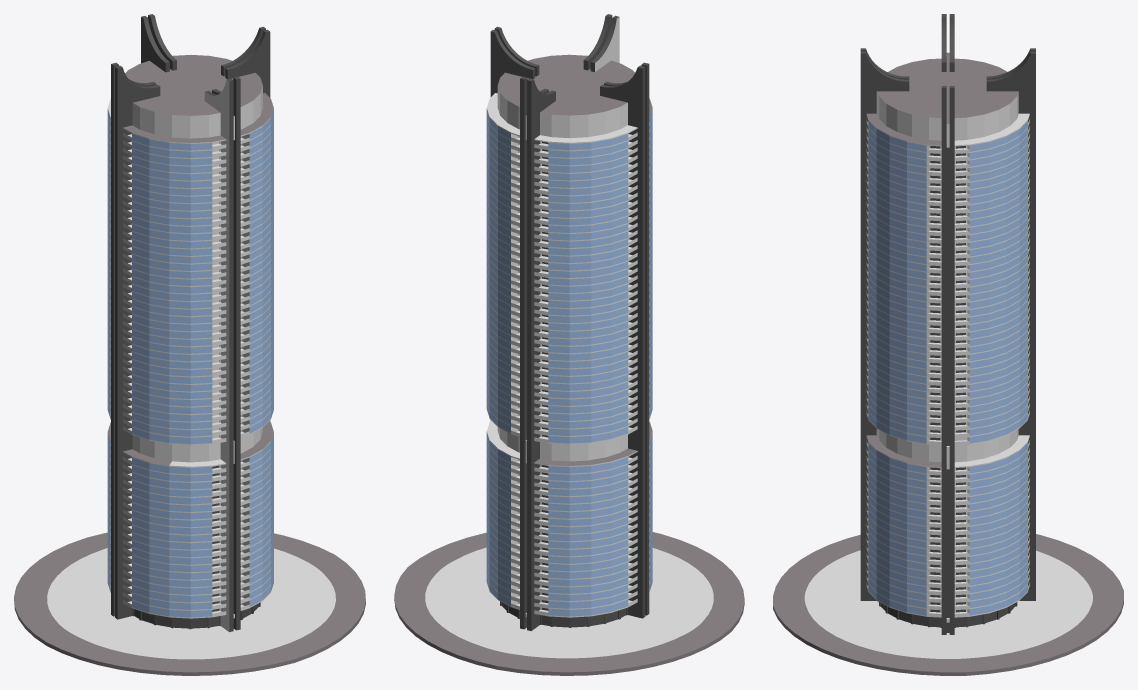
The model's file is Skyscraper6.fbx.
The picture shows the model from 3 angles, left to right: view 1: azimuth 30°, elevation 25°; view 2: azimuth 150°, elevation 25°; view 3: azimuth 270°, elevation 25°; orthographic projection.
Parts seen in each view (by area): view 1: Mesh1109 Model; view 2: Mesh1109 Model; view 3: Mesh1109 Model.
Part boxes in pixels (<box>): Mesh1109 Model: <box>14,14,365,675</box>; Mesh1109 Model: <box>394,14,744,675</box>; Mesh1109 Model: <box>773,14,1123,675</box>.
Size of the model in its own units: 1364 by 2356 by 1361.
